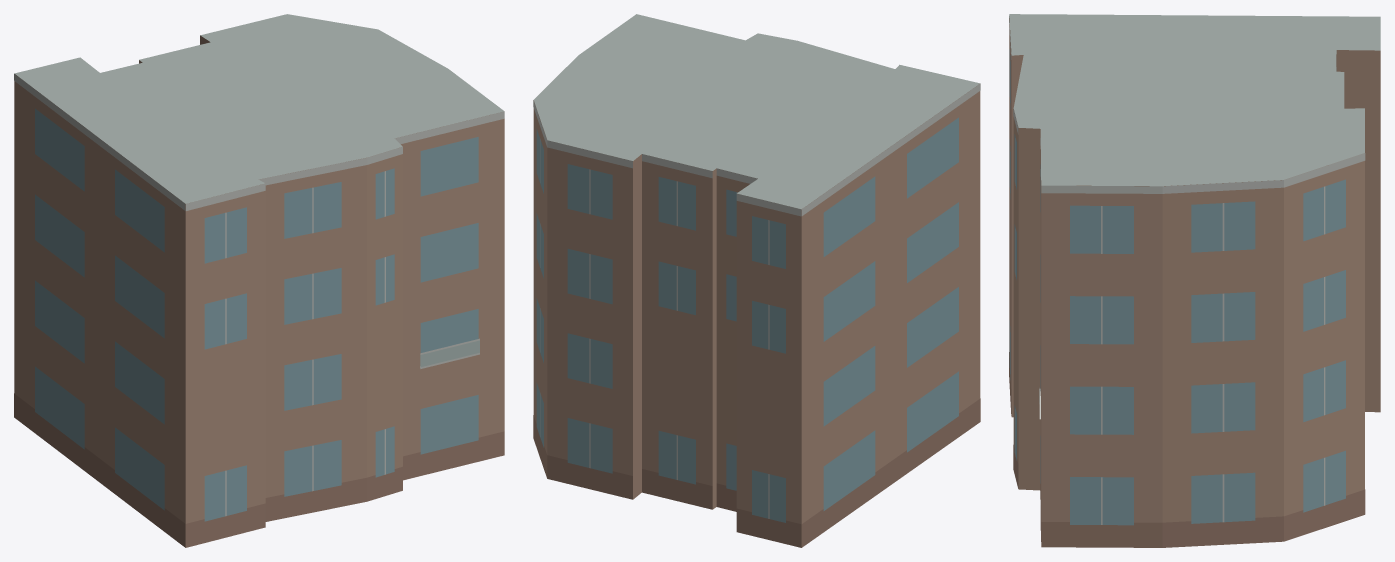
Rendered from survey-upis-32613476.glb.
The picture shows the model from 3 angles, left to right: view 1: azimuth 30°, elevation 25°; view 2: azimuth 150°, elevation 25°; view 3: azimuth 270°, elevation 25°; orthographic projection. The views are drawn at different scales.
Visible parts, largest first — view 1: survey-upis-32613476.tmp; view 2: survey-upis-32613476.tmp; view 3: survey-upis-32613476.tmp.
Part boxes in pixels (bbox=[...]): survey-upis-32613476.tmp: bbox=[14, 14, 504, 547]; survey-upis-32613476.tmp: bbox=[533, 14, 980, 547]; survey-upis-32613476.tmp: bbox=[1009, 14, 1380, 547].
Size of the model in its own units: 11.65 by 11.4 by 10.62.
